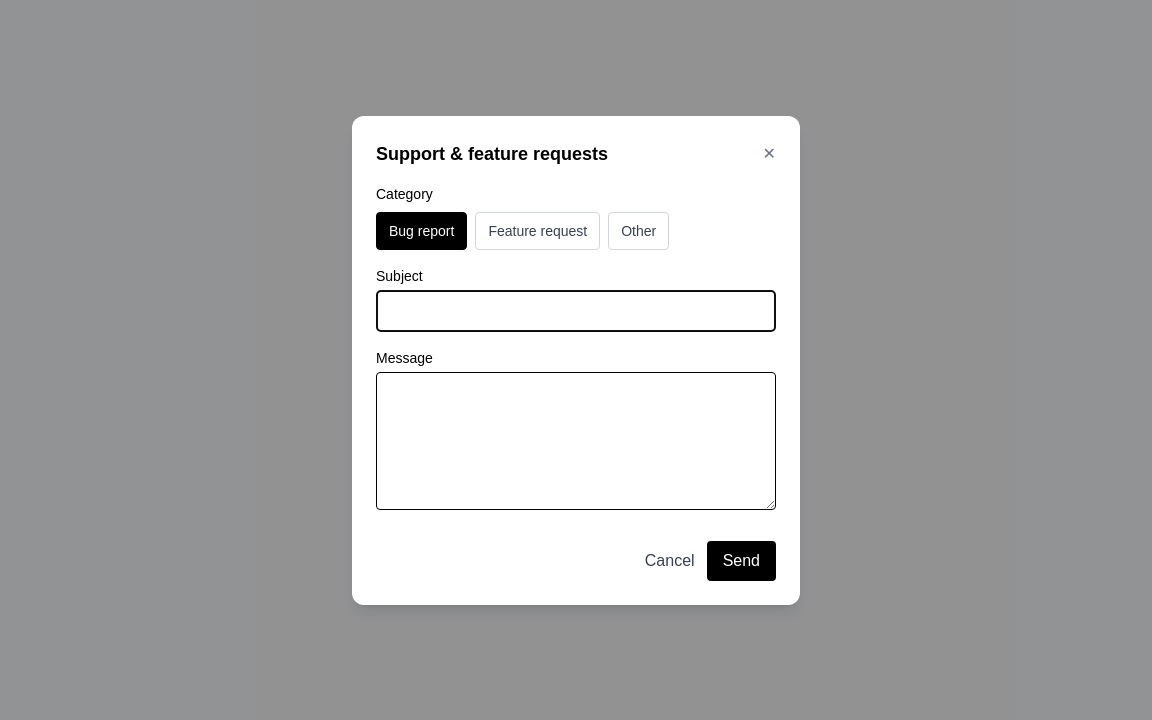
Test: SupportModal › requires a subject before submitting
Click the button "Send": (741, 560) top-left (707, 540), bottom-right (776, 580)
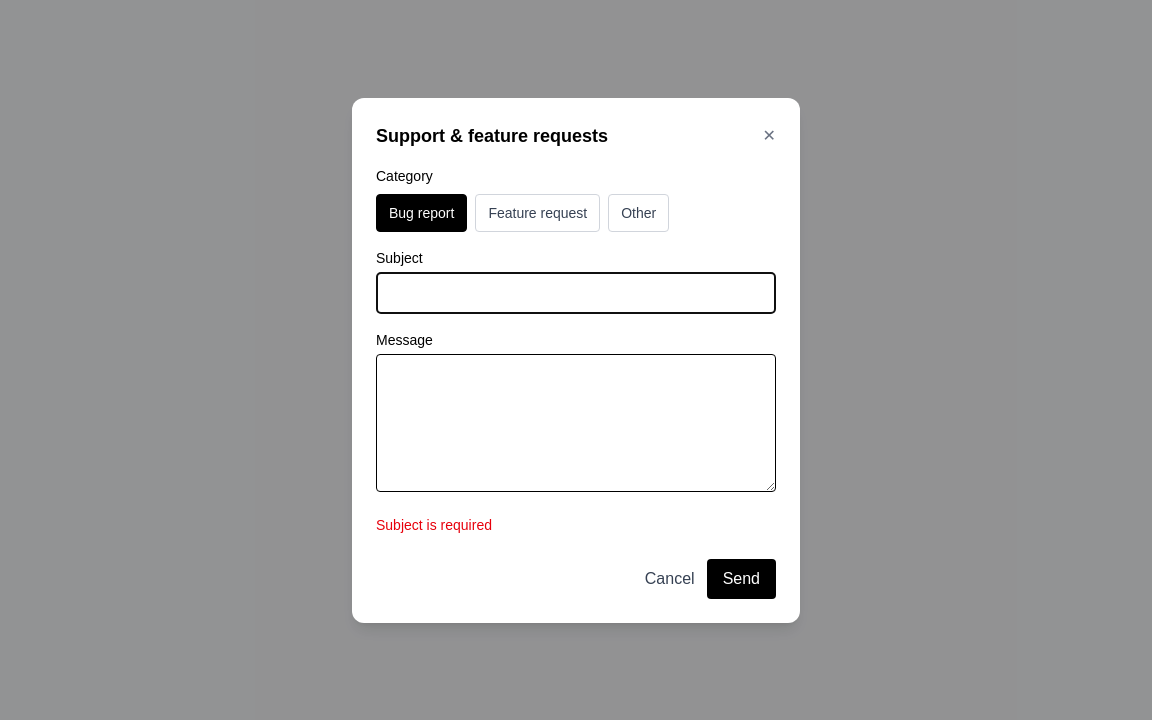
expect the text "Subject is required" is shown: met, box top-left (376, 516), bottom-right (492, 532)
